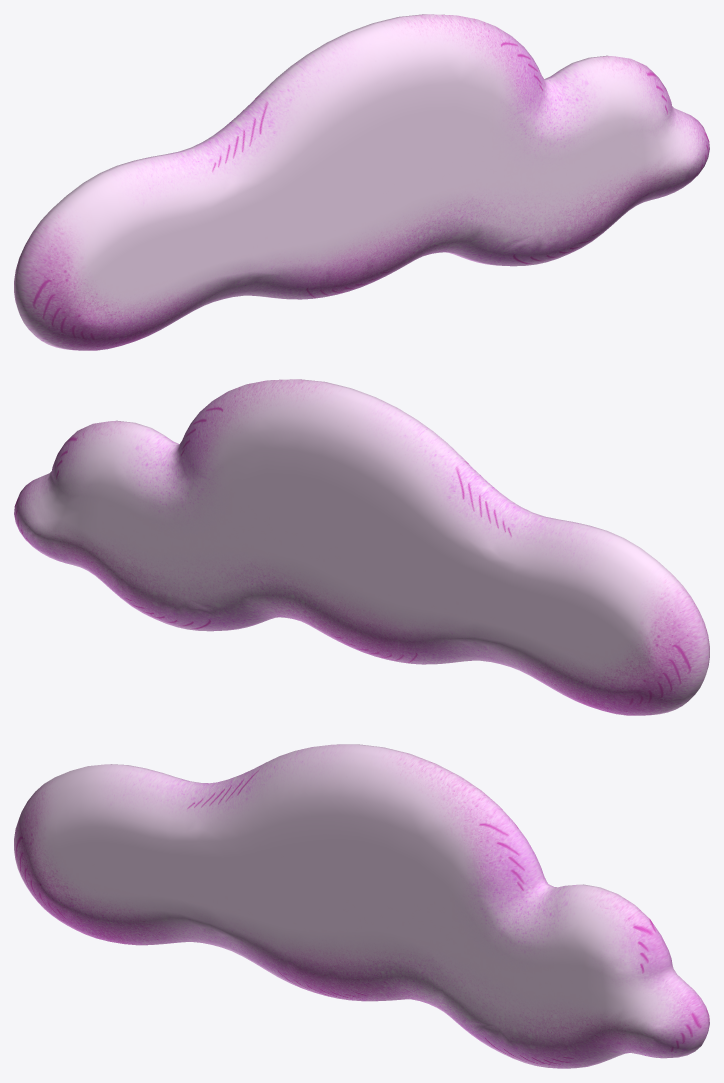
The model's file is Cloud_B.obj.
The picture shows the model from 3 angles, top to bottom: view 1: azimuth 30°, elevation 25°; view 2: azimuth 150°, elevation 25°; view 3: azimuth 330°, elevation 25°; orthographic projection.
Visible parts, largest first — view 1: Cloud_B; view 2: Cloud_B; view 3: Cloud_B.
Boxes of the visible parts, x1,y1,x2,y2 form: Cloud_B: (14, 14, 709, 350); Cloud_B: (14, 379, 709, 715); Cloud_B: (14, 744, 709, 1068).
Bounding box in the file's own units: 209 × 80.23 × 20.81.
Materials: 1 (1 with a texture image).
